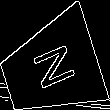N_W: (24, 41, 77, 96)
